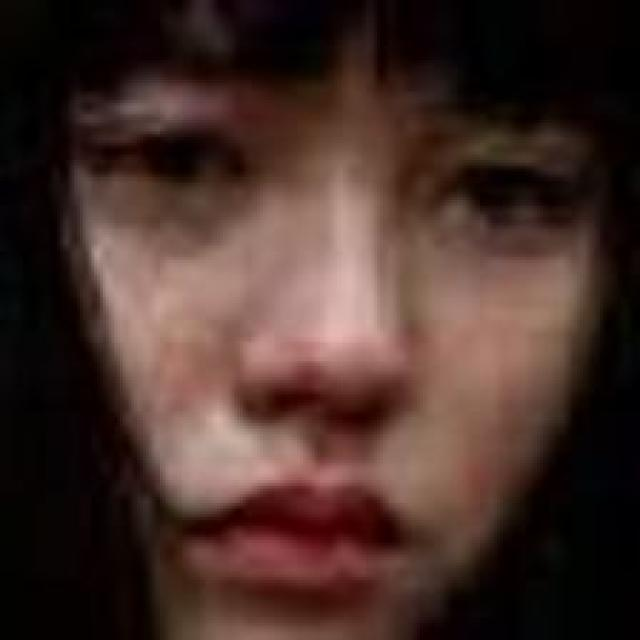fear: (43, 54, 563, 640)
